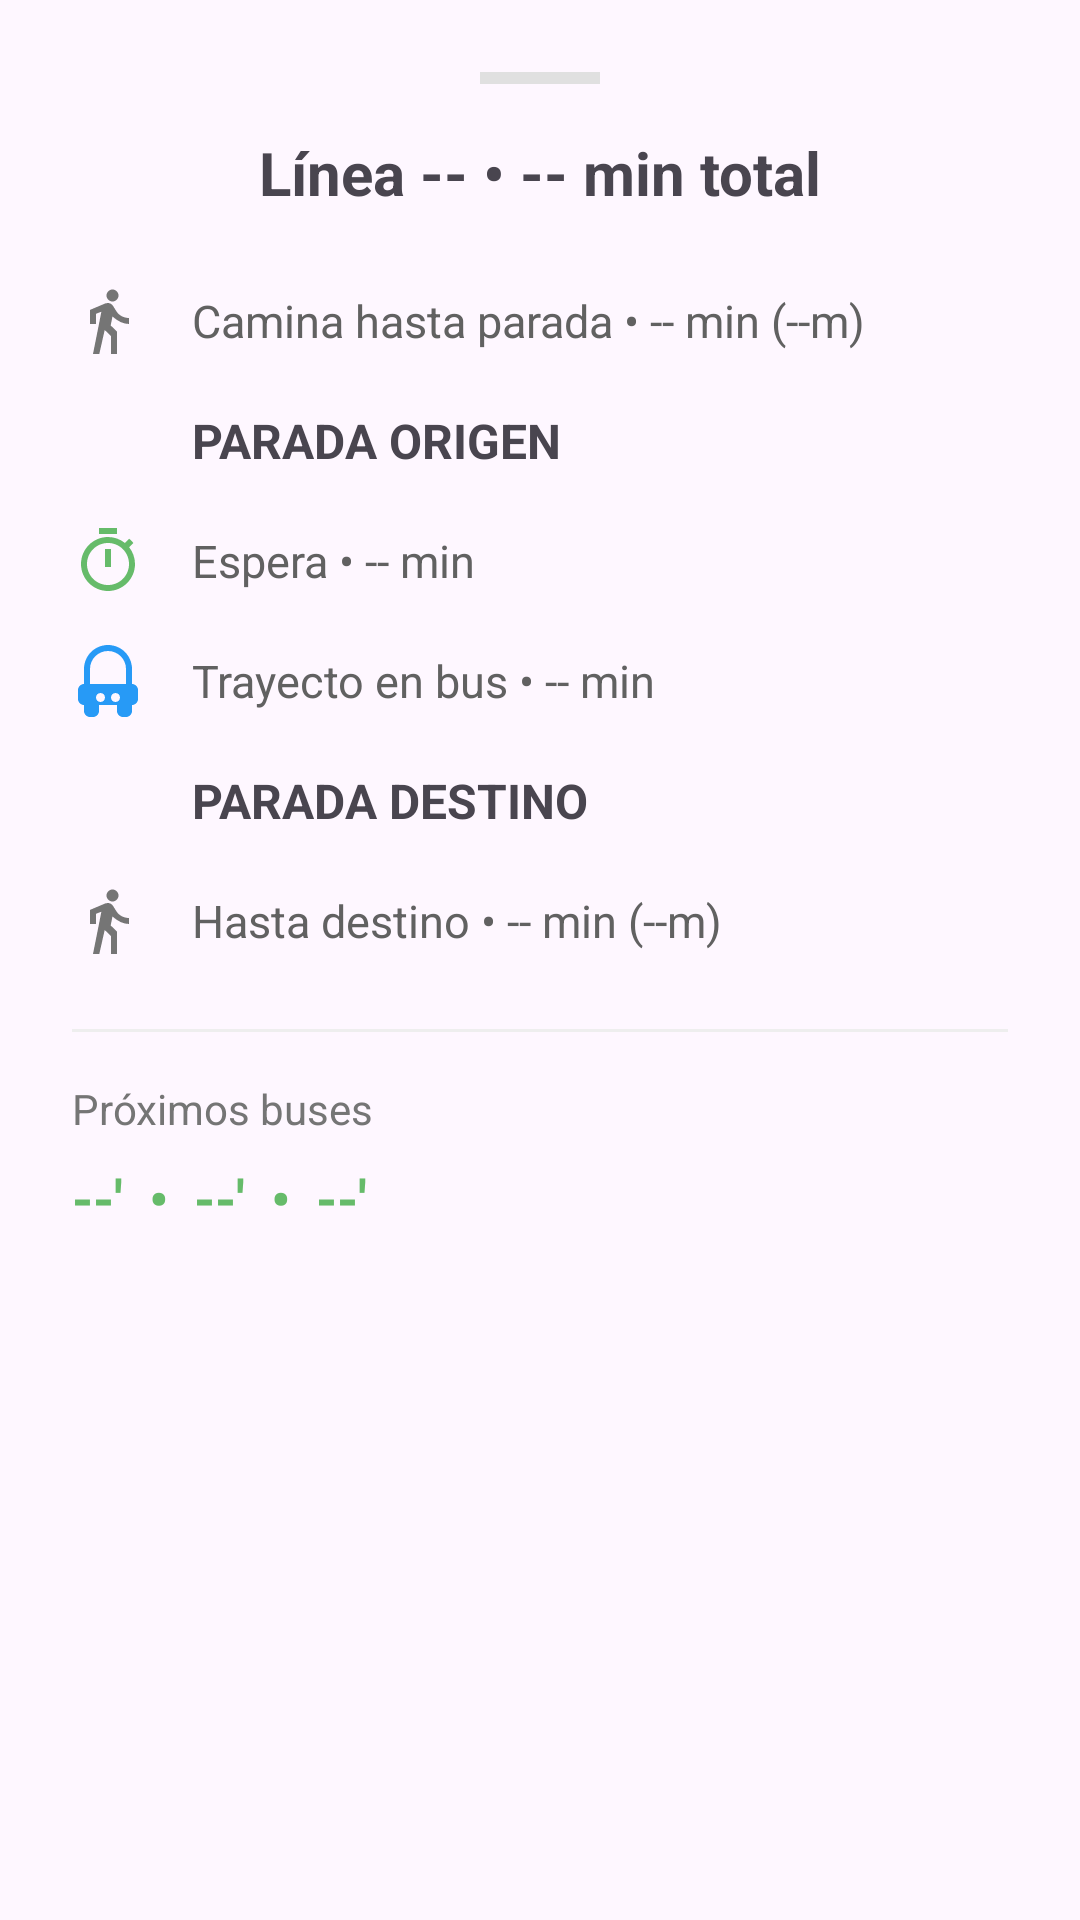

Named icons in this screenshot (1080 x 1920) and their centers, (x,y):
timer: (108,559)
walk: (109,321), (109,921)
